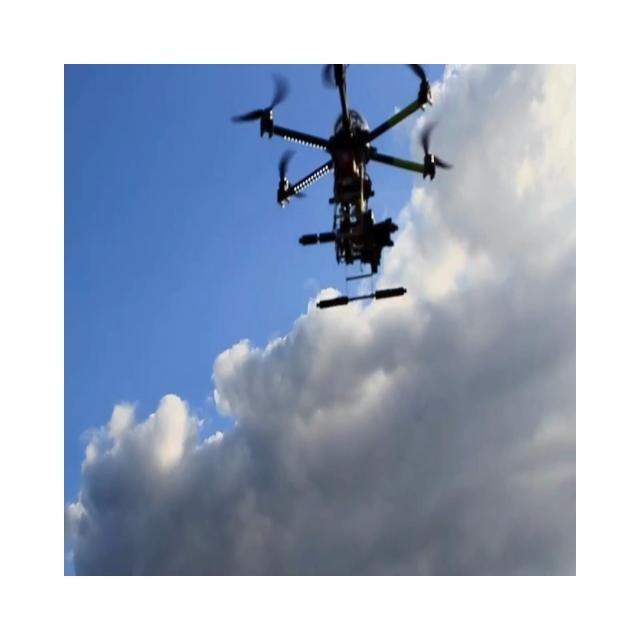drone: (230, 62, 453, 308)
